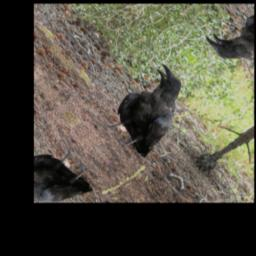Crow: (89, 61, 212, 165)
